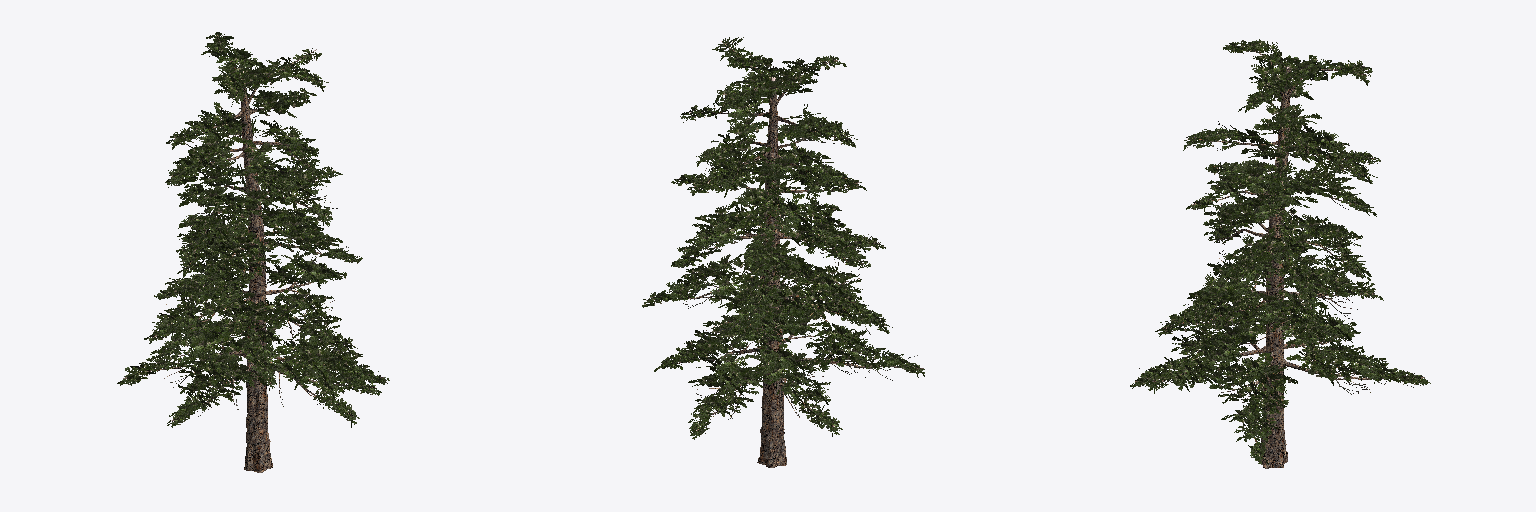
3 views of the same model, side by side, from view 1: azimuth 30°, elevation 25°; view 2: azimuth 150°, elevation 25°; view 3: azimuth 270°, elevation 25° (orthographic).
Visible parts, largest first — view 1: pine2; view 2: pine2; view 3: pine2.
Part boxes in pixels (x1,y1,x2,y2): pine2: (117,32,389,472); pine2: (642,37,924,467); pine2: (1130,39,1430,468).
Bounding box in the file's own units: 28.76 × 44.81 × 30.48.
Materials: 5 (4 with a texture image).